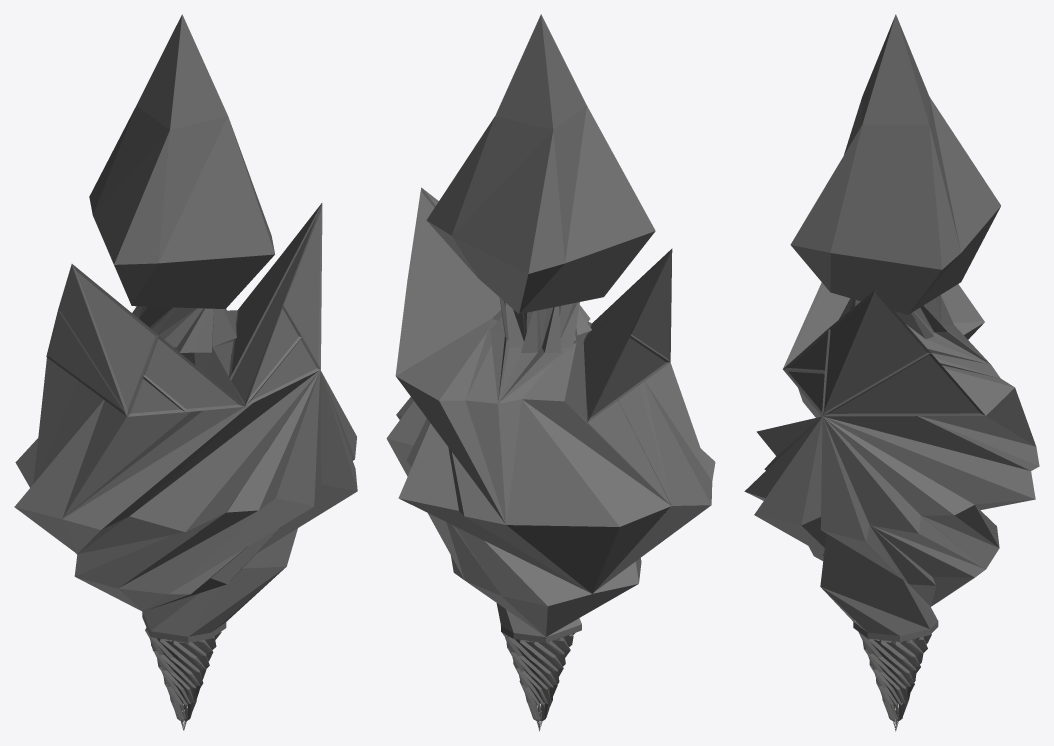
3 views of the same model, side by side, from view 1: azimuth 30°, elevation 25°; view 2: azimuth 150°, elevation 25°; view 3: azimuth 270°, elevation 25° (orthographic).
Parts seen in each view (by area): view 1: SM_Pyramid; view 2: SM_Pyramid; view 3: SM_Pyramid.
Boxes of the visible parts, x1=… form: SM_Pyramid: x1=14, y1=14, x2=357, y2=730; SM_Pyramid: x1=386, y1=14, x2=715, y2=731; SM_Pyramid: x1=744, y1=14, x2=1039, y2=731.
Bounding box in the file's own units: 5.28 × 11 × 4.1.
1 material, 1 textured.
